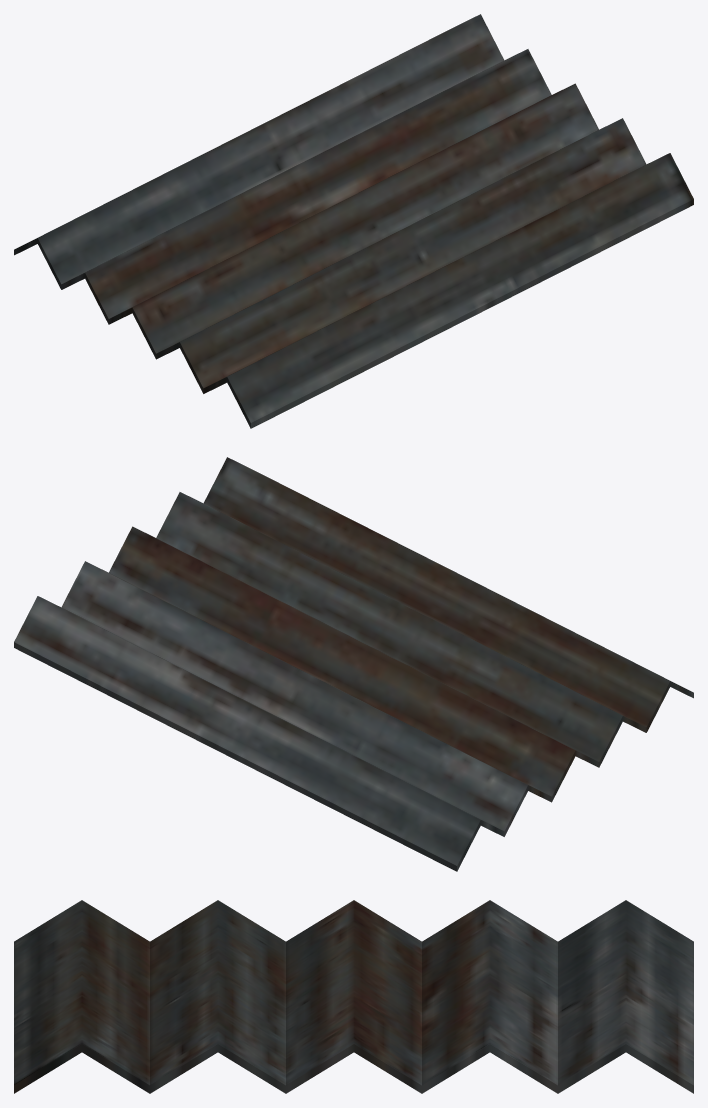
The model's file is roof_hr_3_side_2_angle_corner_1.obj.
3 views of the same model, one above another, from view 1: azimuth 30°, elevation 25°; view 2: azimuth 150°, elevation 25°; view 3: azimuth 270°, elevation 25° (orthographic). The views are drawn at different scales.
Parts seen in each view (by area): view 1: roof_hr_3_side_2_angle_corner_1; view 2: roof_hr_3_side_2_angle_corner_1; view 3: roof_hr_3_side_2_angle_corner_1.
Boxes of the visible parts, bbox=[...] form: roof_hr_3_side_2_angle_corner_1: bbox=[14, 14, 693, 428]; roof_hr_3_side_2_angle_corner_1: bbox=[14, 457, 693, 871]; roof_hr_3_side_2_angle_corner_1: bbox=[14, 900, 693, 1093].
Bounding box in the file's own units: 0.8 × 0.26 × 0.7407.
